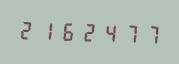four: (97, 20, 116, 44)
one: (37, 18, 56, 42)
seven: (117, 20, 136, 45), (137, 21, 156, 46)
six: (57, 18, 76, 43)
two: (17, 17, 36, 42), (77, 19, 96, 44)
